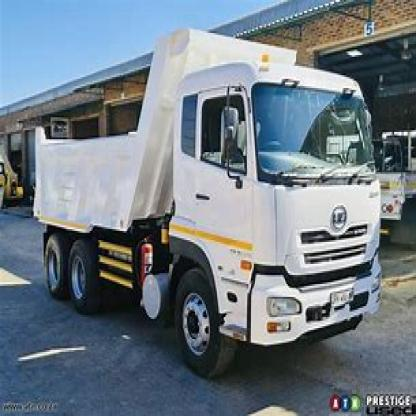dump_truck: (29, 21, 390, 390)
